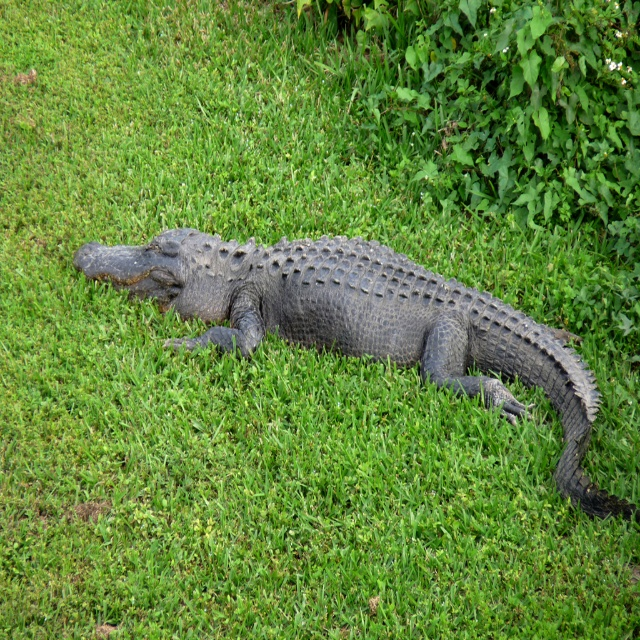Crocodile: (72, 228, 640, 534)
